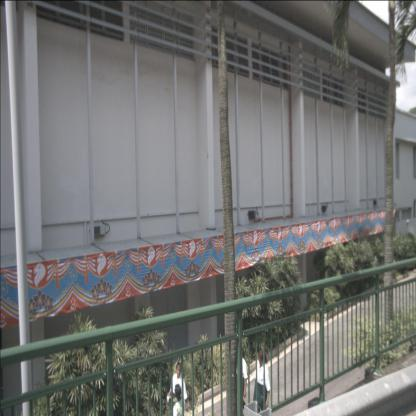human-pedestrian-adult: (167, 363, 191, 415), (253, 350, 271, 416), (234, 348, 248, 416), (173, 384, 186, 416)
